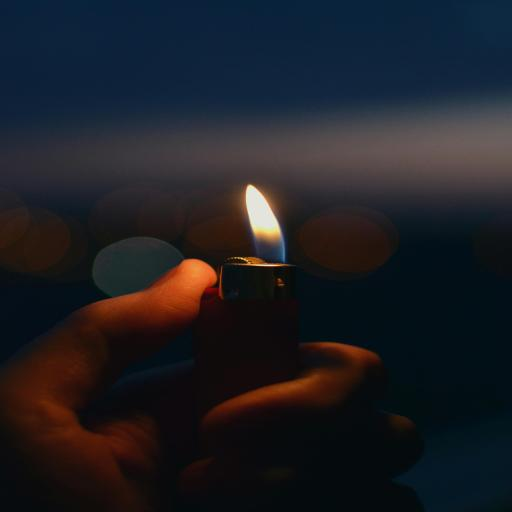lighter: (158, 160, 332, 384)
